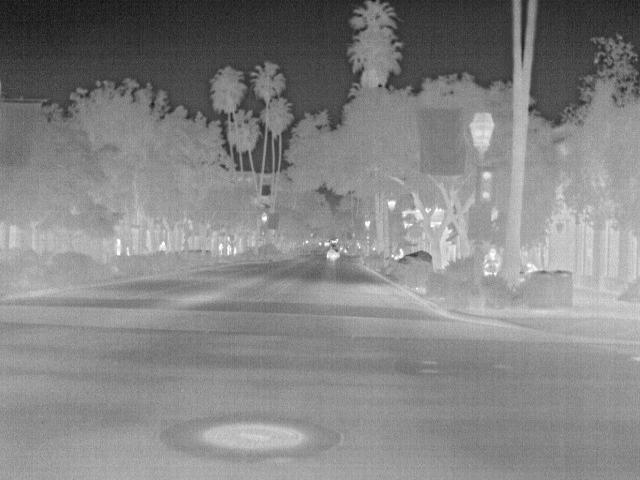car: (324, 248, 342, 260)
person: (482, 244, 502, 276), (112, 236, 125, 261), (392, 248, 408, 261), (158, 240, 167, 252)
